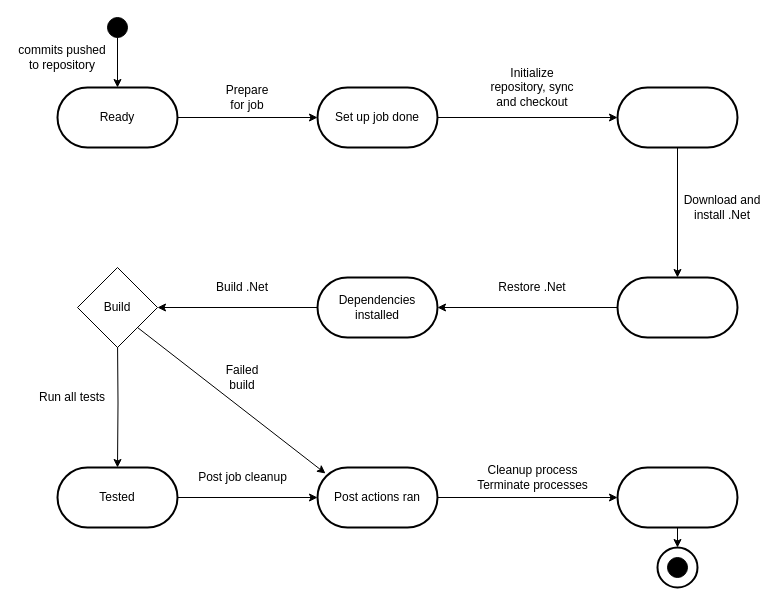
Some shapes in this 784 by 606 pixel diagram are drawn without their labels. Each missing label, with the centre of its shape:
".Net setup" belongs at (x=677, y=307).
"Actions ran" belongs at (x=677, y=117).
"Job completed" belongs at (x=677, y=497).
